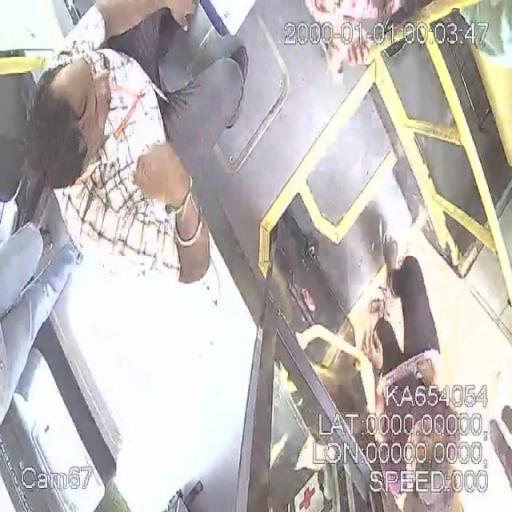persona: (1, 1, 249, 302), (348, 232, 476, 500)
